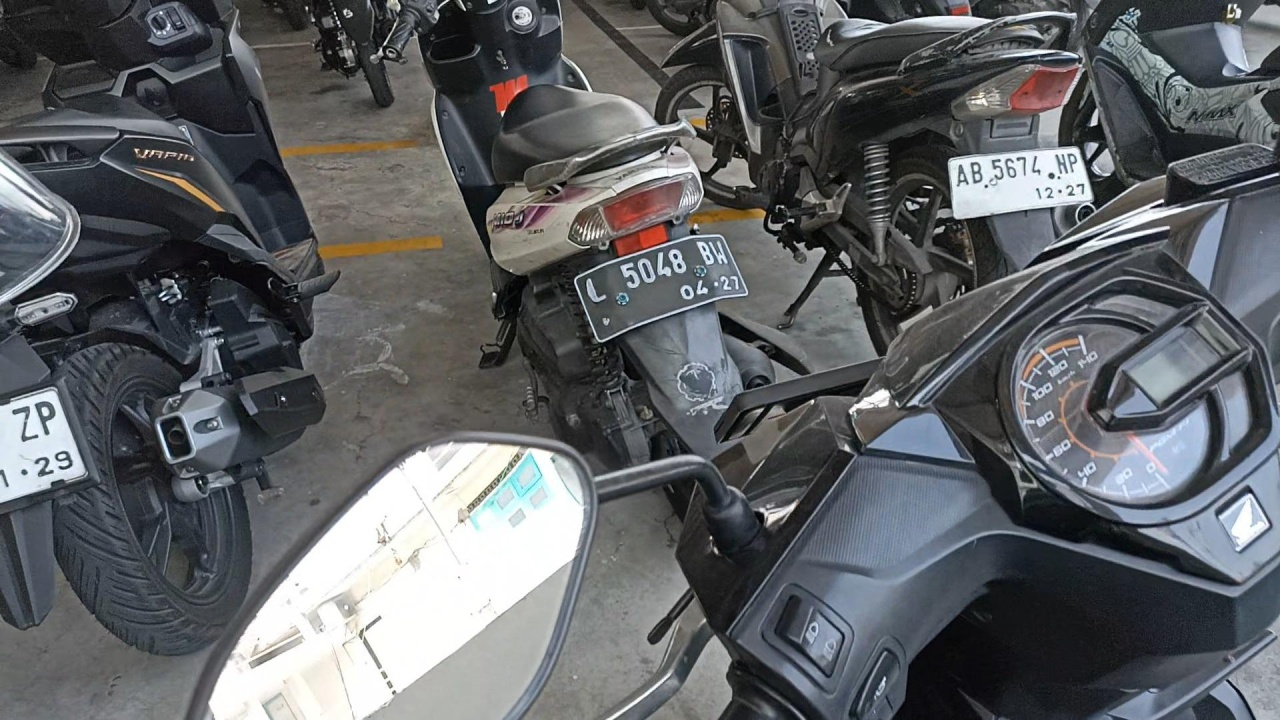plate: (575, 236, 748, 343), (948, 147, 1094, 220)
